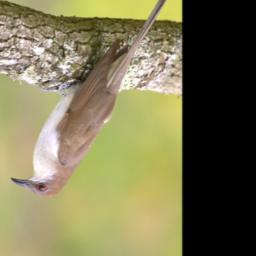Cuckoo: (9, 0, 176, 199)
